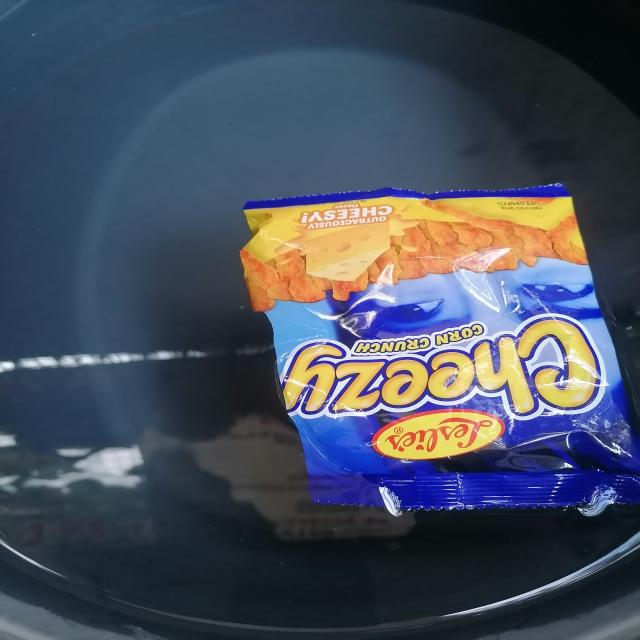Plastic Wrapper: (226, 154, 640, 531)
